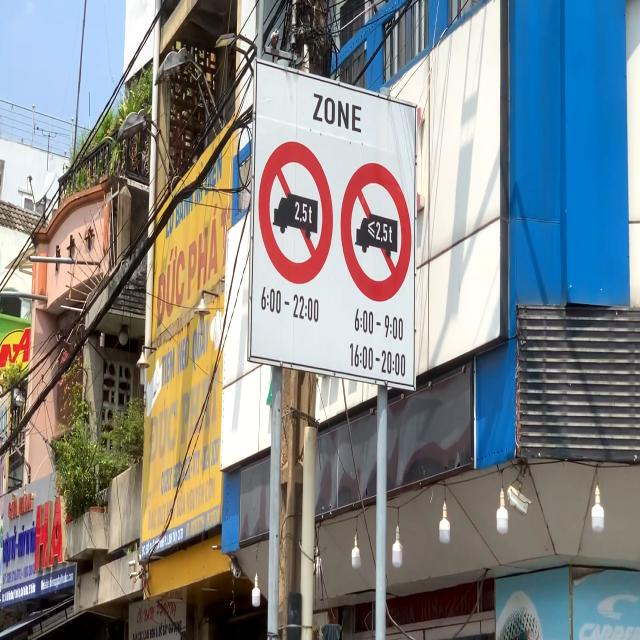P.106b: (257, 140, 334, 286), (340, 161, 413, 304)
